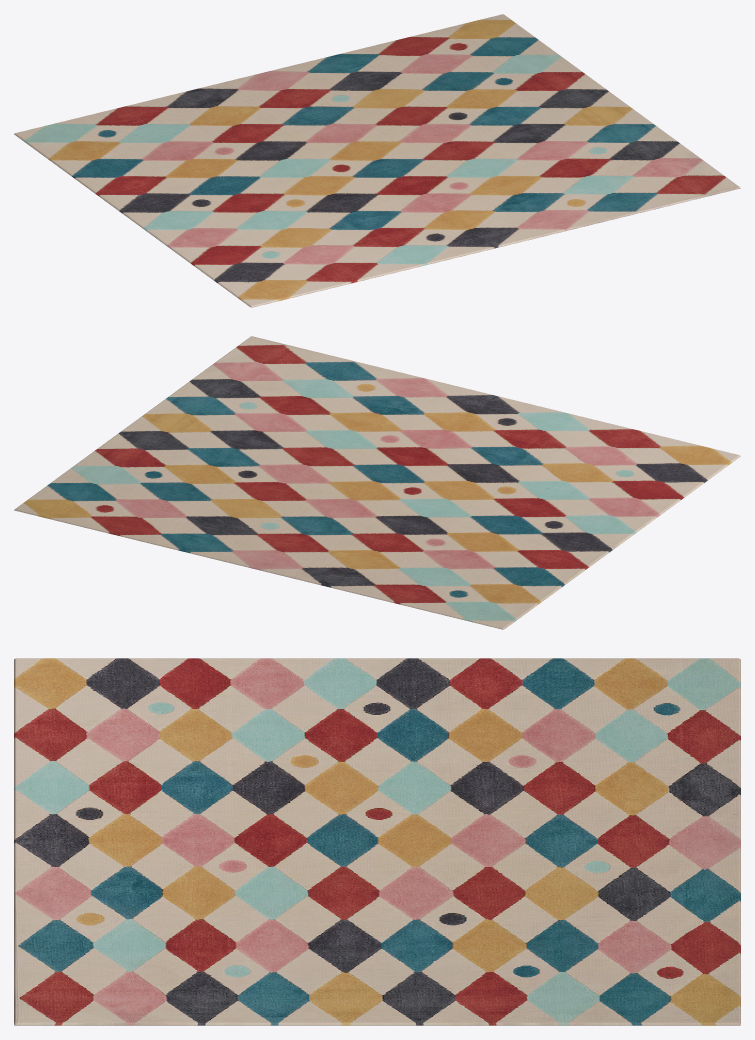
File: kleed.fbx
3 views of the same model, one above another, from view 1: azimuth 30°, elevation 25°; view 2: azimuth 150°, elevation 25°; view 3: azimuth 270°, elevation 25° (orthographic). The views are drawn at different scales.
Visible parts, largest first — view 1: Plane; view 2: Plane; view 3: Plane.
Boxes of the visible parts, x1,y1,x2,y2 form: Plane: (14,14,740,307); Plane: (14,336,740,629); Plane: (14,658,740,1025).
Size of the model in its own units: 158 by 0.4003 by 133.
